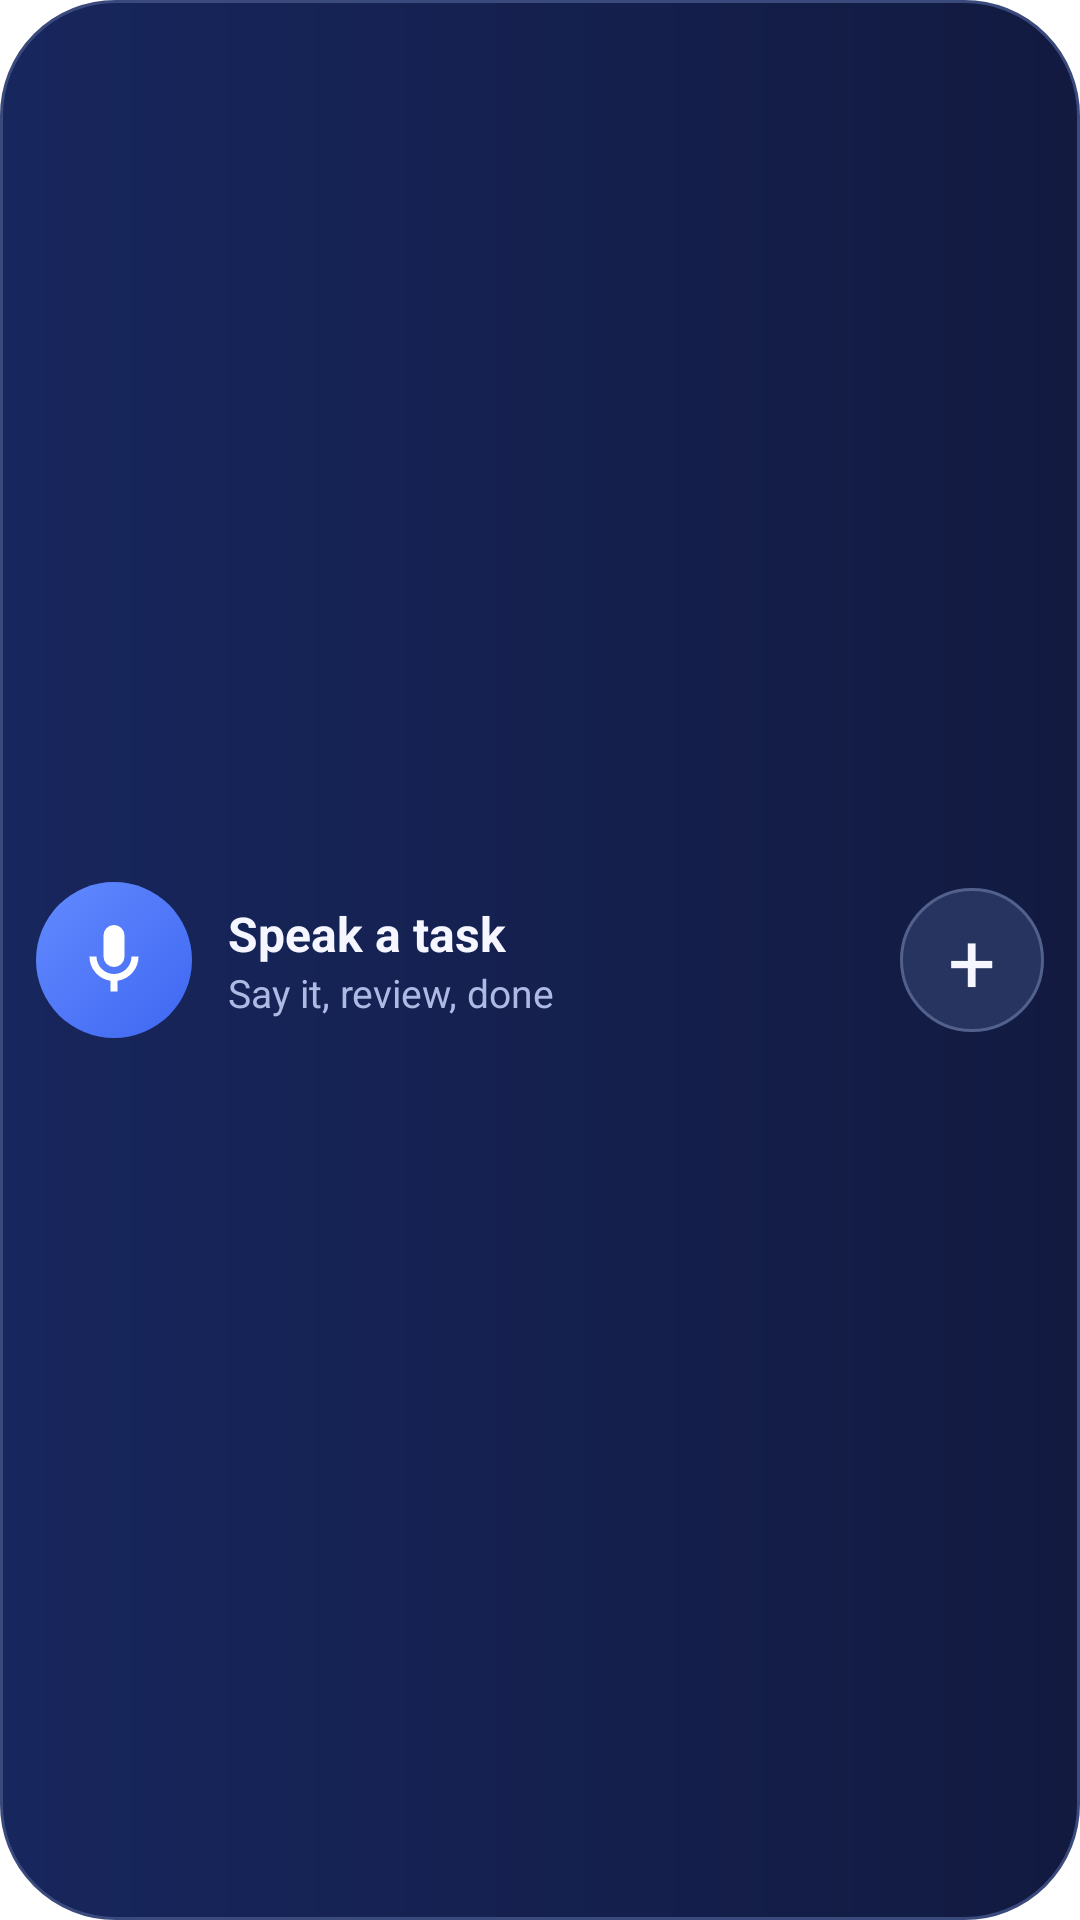

Icon bounding boxes for this 1080*1920 phone screenshot, format (x1, y1, x2, y2):
widget microphone: (89, 925, 139, 992)
